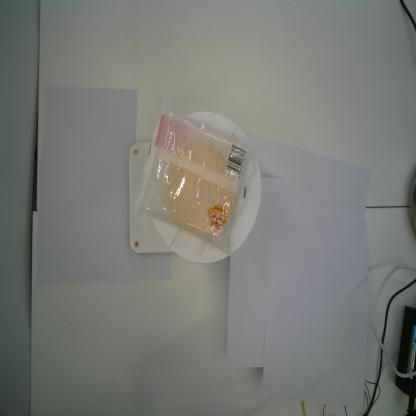Dessert: (135, 99, 253, 260)
